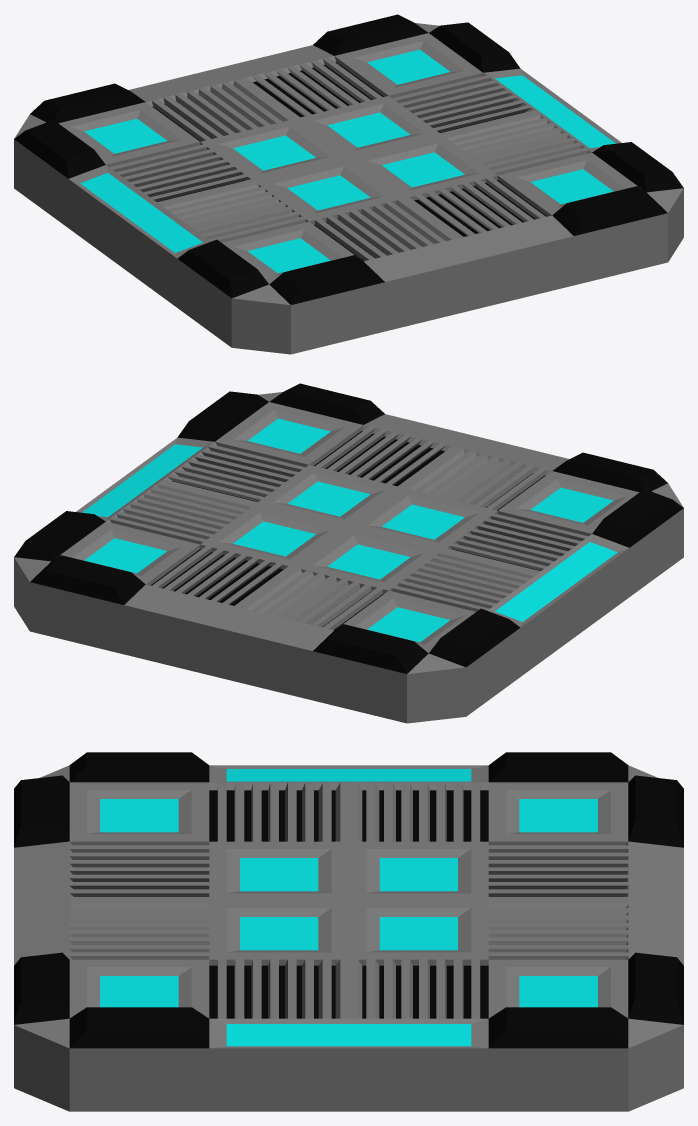
File: BuildingNode.fbx
The picture shows the model from 3 angles, top to bottom: view 1: azimuth 30°, elevation 25°; view 2: azimuth 150°, elevation 25°; view 3: azimuth 270°, elevation 25°; orthographic projection. The views are drawn at different scales.
Visible parts, largest first — view 1: BuildingNode; view 2: BuildingNode; view 3: BuildingNode.
Boxes of the visible parts, x1,y1,x2,y2 form: BuildingNode: (14,14,683,354); BuildingNode: (14,383,683,723); BuildingNode: (14,752,683,1111).
Size of the model in its own units: 200 by 29.74 by 200.
